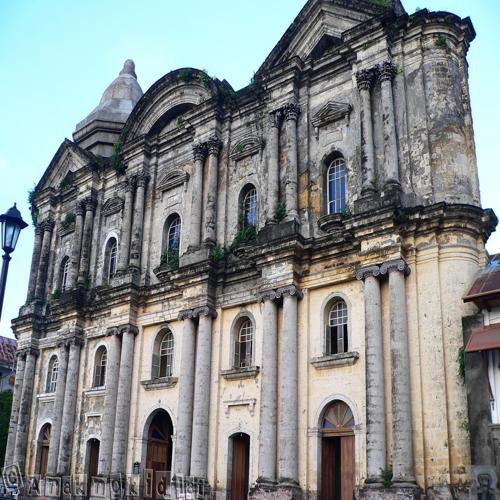Taal Basilica Church: (5, 4, 490, 497)
